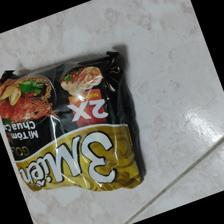3mien: (1, 51, 144, 193)
